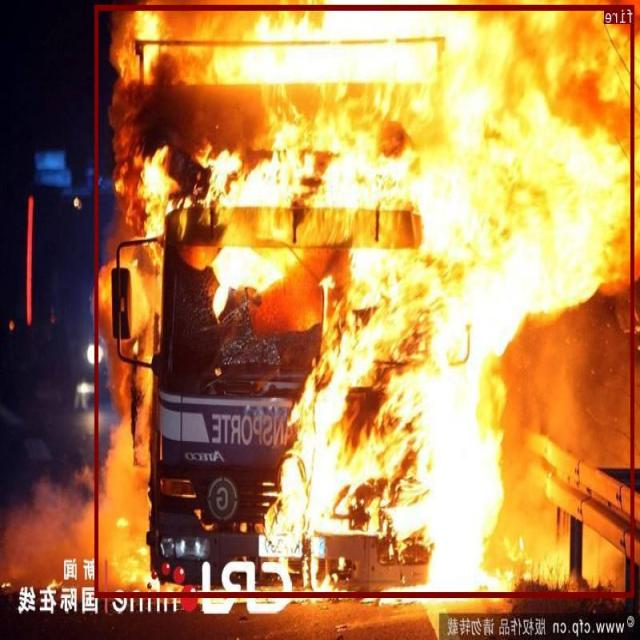fire: (95, 4, 635, 596)
